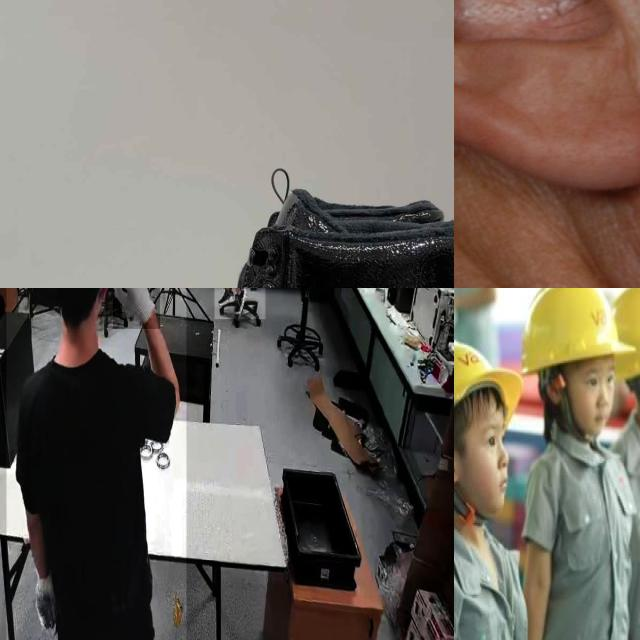No_Ear-Protection: (454, 0, 640, 192), (544, 365, 566, 408), (454, 435, 464, 493)
No_Glasses: (469, 414, 512, 464), (576, 359, 618, 399)
Sandals: (0, 141, 454, 288)
hand_glove: (113, 288, 160, 329)
person: (6, 288, 187, 640)
shoes: (233, 288, 247, 317), (216, 288, 235, 309)
